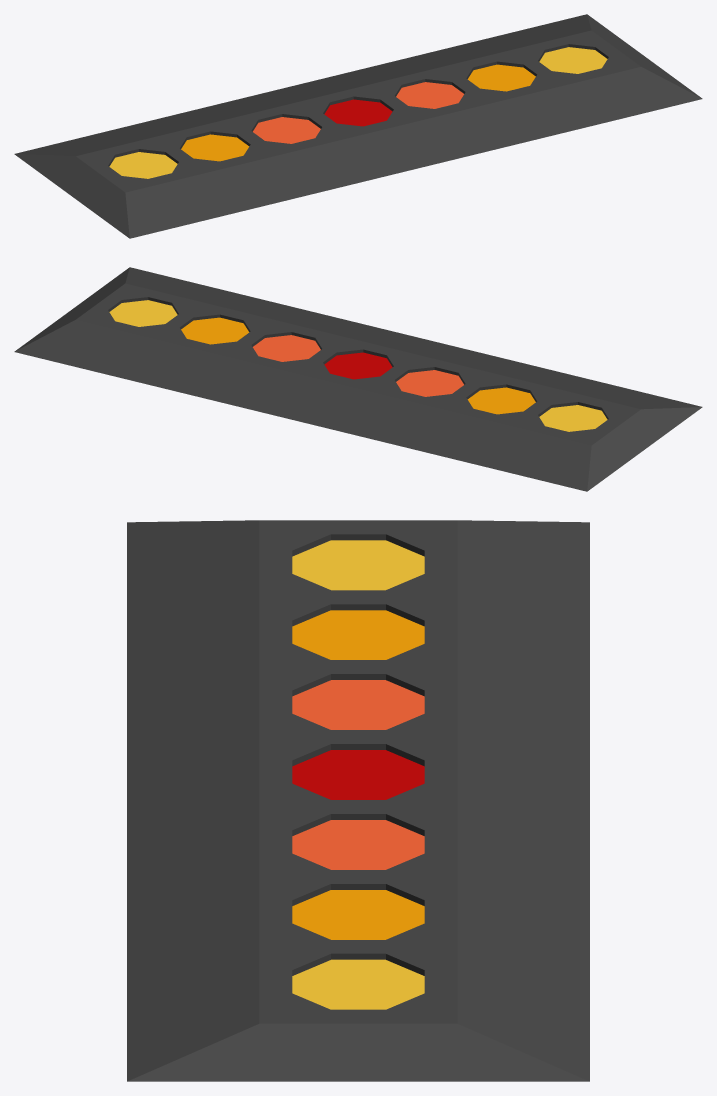
Rendered from RolloverCircles.fbx.
The picture shows the model from 3 angles, top to bottom: view 1: azimuth 30°, elevation 25°; view 2: azimuth 150°, elevation 25°; view 3: azimuth 270°, elevation 25°; orthographic projection. The views are drawn at different scales.
Parts seen in each view (by area): view 1: RolloverCircles; view 2: RolloverCircles; view 3: RolloverCircles.
Part boxes in pixels (box(x1,y1,x2,y2)): RolloverCircles: box(14, 14, 702, 238); RolloverCircles: box(14, 267, 702, 491); RolloverCircles: box(127, 520, 589, 1081).
Size of the model in its own units: 200 by 5 by 70.
